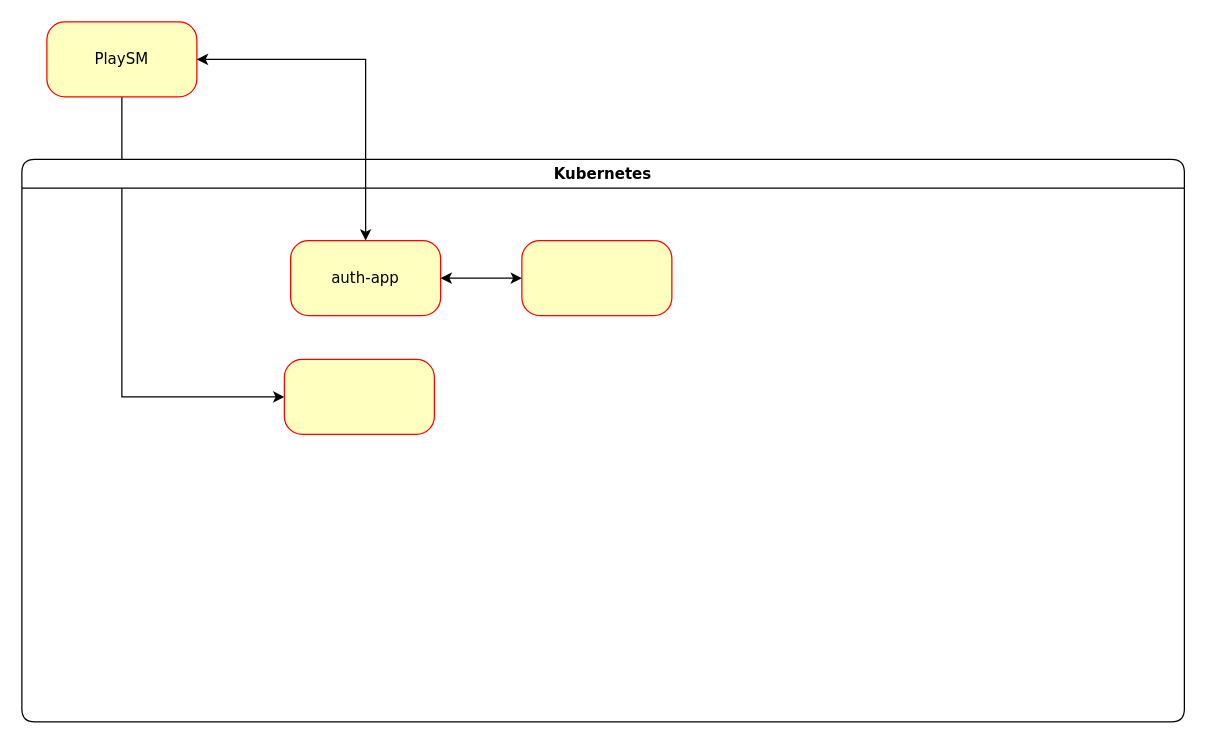
The diagram is 1206 pixels wide and 744 high, and some of its shapes have lost their labels. The centre of each missing label's shape, as x and y in pixels:
file-dev-app: the point at 358,396
user-app: the point at 596,277
